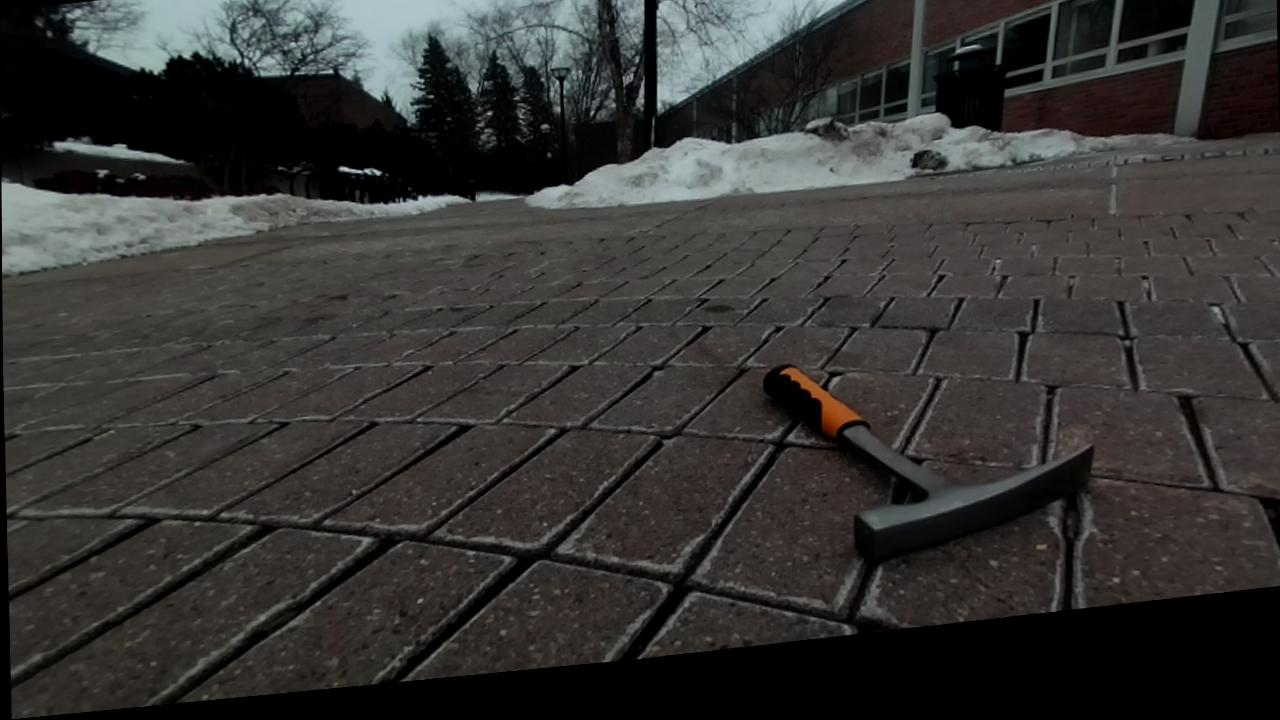pick: (763, 365, 1094, 560)
